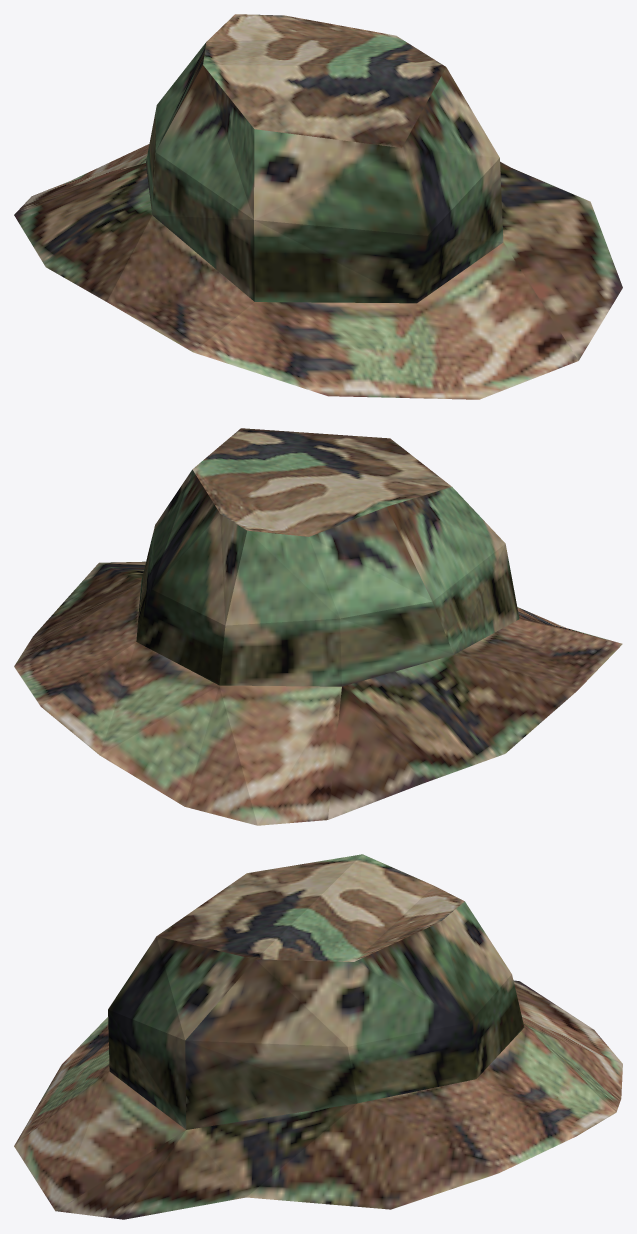
Rendered from recovered_gear_seal_hat_d1f281b69643.glb.
3 renders of one model, top to bottom at view 1: azimuth 30°, elevation 25°; view 2: azimuth 150°, elevation 25°; view 3: azimuth 270°, elevation 25°, orthographic. The views are drawn at different scales.
Parts seen in each view (by area): view 1: seal_hat; view 2: seal_hat; view 3: seal_hat.
Part boxes in pixels (x1,y1,x2,y2): seal_hat: [14, 14, 622, 399]; seal_hat: [14, 428, 622, 825]; seal_hat: [14, 854, 622, 1219].
Size of the model in its own units: 0.3018 by 0.1478 by 0.3329.
Materials: 1 (1 with a texture image).
